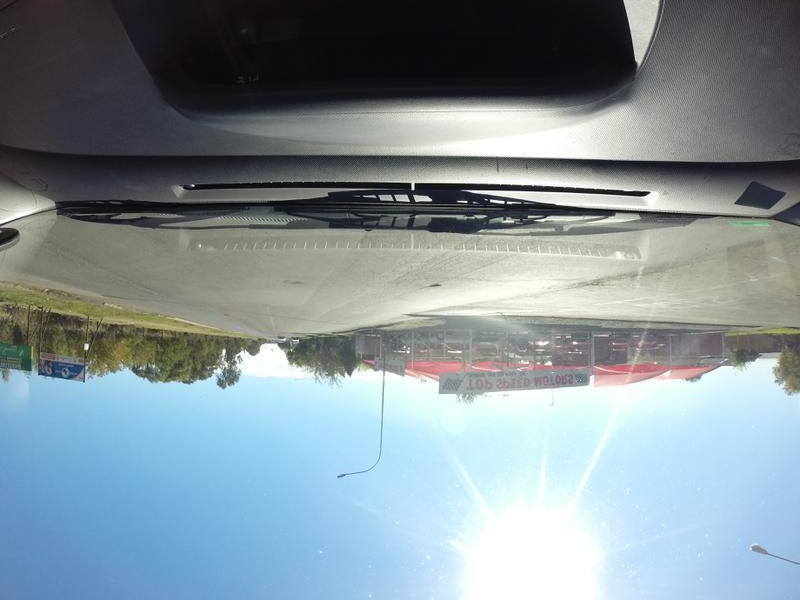pothole: (427, 270, 463, 293)
